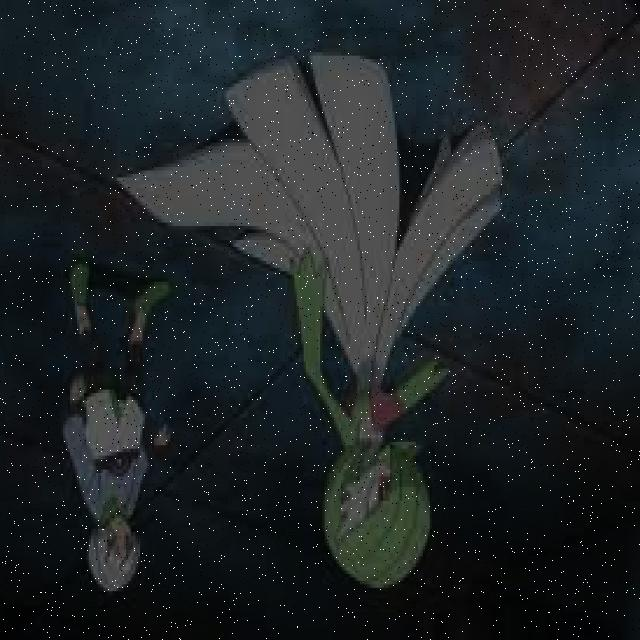gardevoir: (117, 52, 508, 589)
